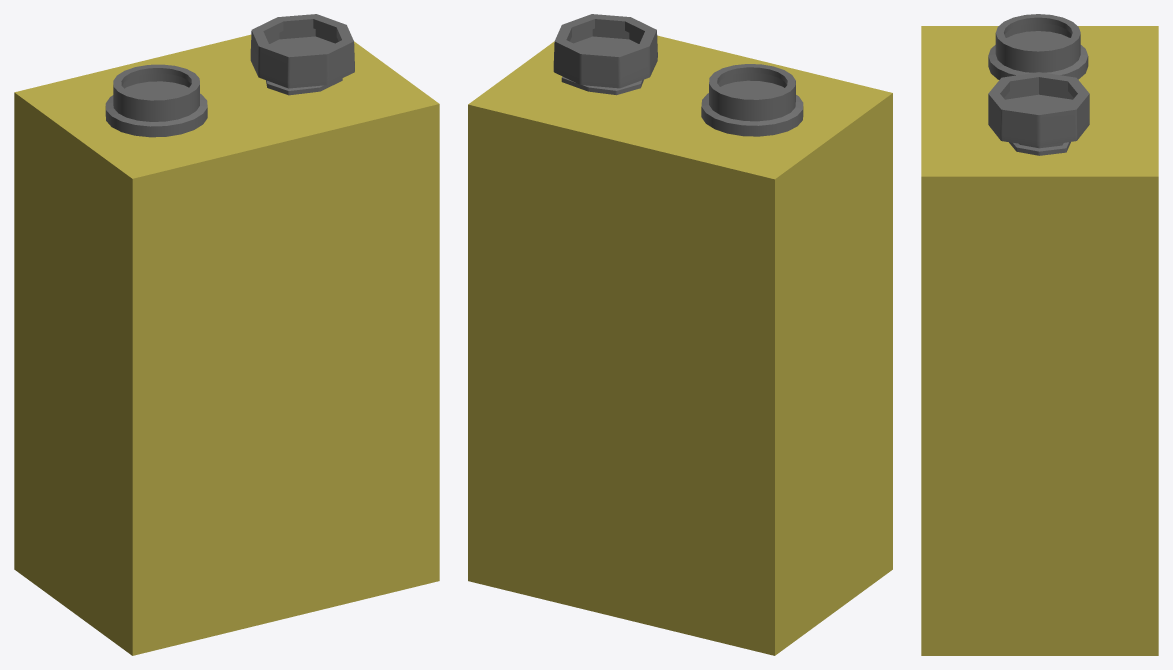
Rendered from battery.fbx.
The picture shows the model from 3 angles, left to right: view 1: azimuth 30°, elevation 25°; view 2: azimuth 150°, elevation 25°; view 3: azimuth 270°, elevation 25°; orthographic projection.
Visible parts, largest first — view 1: battery1, battery_top; view 2: battery1, battery_top; view 3: battery1, battery_top.
Boxes of the visible parts, x1=… form: battery1: x1=14, y1=14, x2=439, y2=655; battery_top: x1=105, y1=64, x2=207, y2=137; battery1: x1=468, y1=14, x2=892, y2=655; battery_top: x1=701, y1=64, x2=803, y2=136; battery1: x1=921, y1=26, x2=1158, y2=655; battery_top: x1=988, y1=14, x2=1088, y2=79.
Bounding box in the file's own units: 10 × 16.23 × 6.66.
